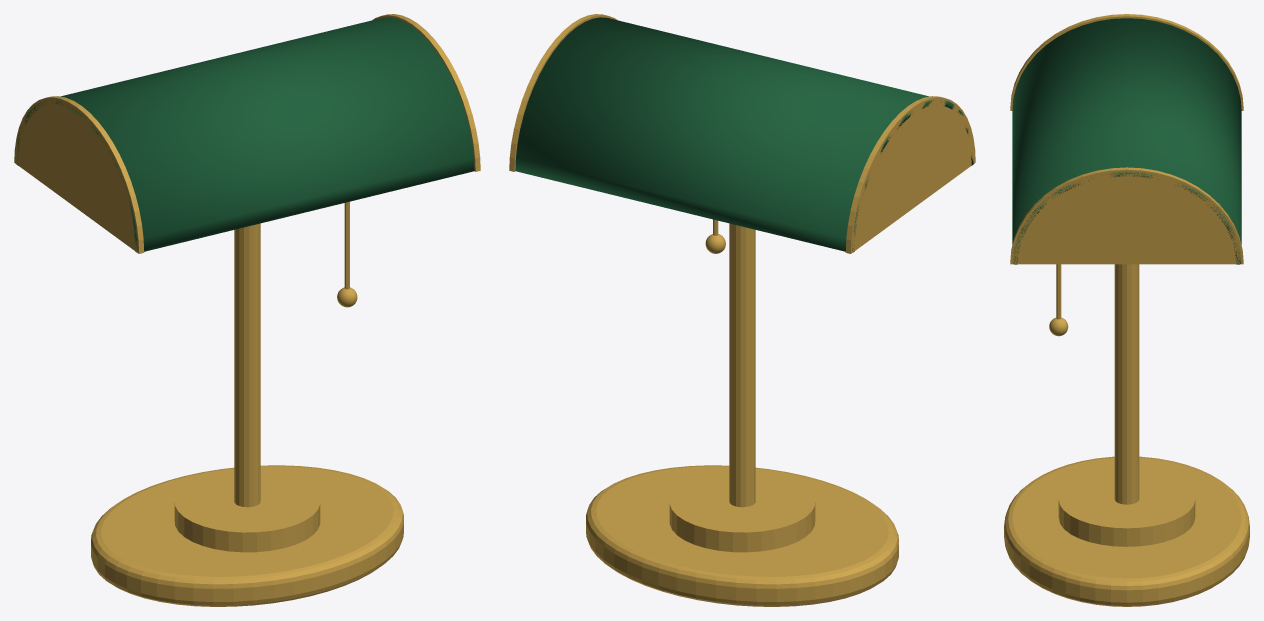
Rendered from lamp.fbx.
3 views of the same model, side by side, from view 1: azimuth 30°, elevation 25°; view 2: azimuth 150°, elevation 25°; view 3: azimuth 270°, elevation 25° (orthographic). The views are drawn at different scales.
Visible parts, largest first — view 1: shade, base, plate, step, stem, plate.001; view 2: shade, base, plate, step, stem, plate.001; view 3: shade, base, plate.001, step, stem, plate.
Boxes of the visible parts, box(x1,y1,x2,y2) form: shade: box(16, 17, 474, 252); base: box(91, 465, 403, 606); plate: box(14, 96, 144, 253); step: box(174, 471, 320, 552); stem: box(234, 223, 260, 507); plate.001: box(372, 14, 480, 171); shade: box(515, 17, 973, 252); base: box(586, 465, 898, 606); plate: box(845, 96, 975, 253); step: box(669, 471, 815, 552); stem: box(729, 223, 755, 507); plate.001: box(509, 14, 617, 171); shade: box(1012, 18, 1241, 264); base: box(1004, 456, 1249, 606); plate.001: box(1010, 167, 1243, 264); step: box(1058, 471, 1195, 546); stem: box(1114, 264, 1139, 504); plate: box(1010, 14, 1243, 110).
Size of the model in its own units: 0.27 by 0.3665 by 0.18.
